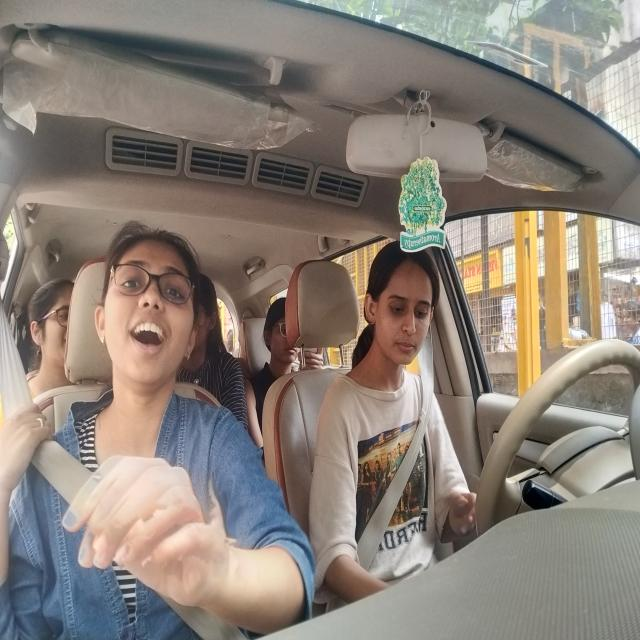person: (91, 224, 199, 382), (356, 237, 440, 370), (18, 275, 74, 370), (199, 276, 233, 366), (262, 298, 300, 366)
